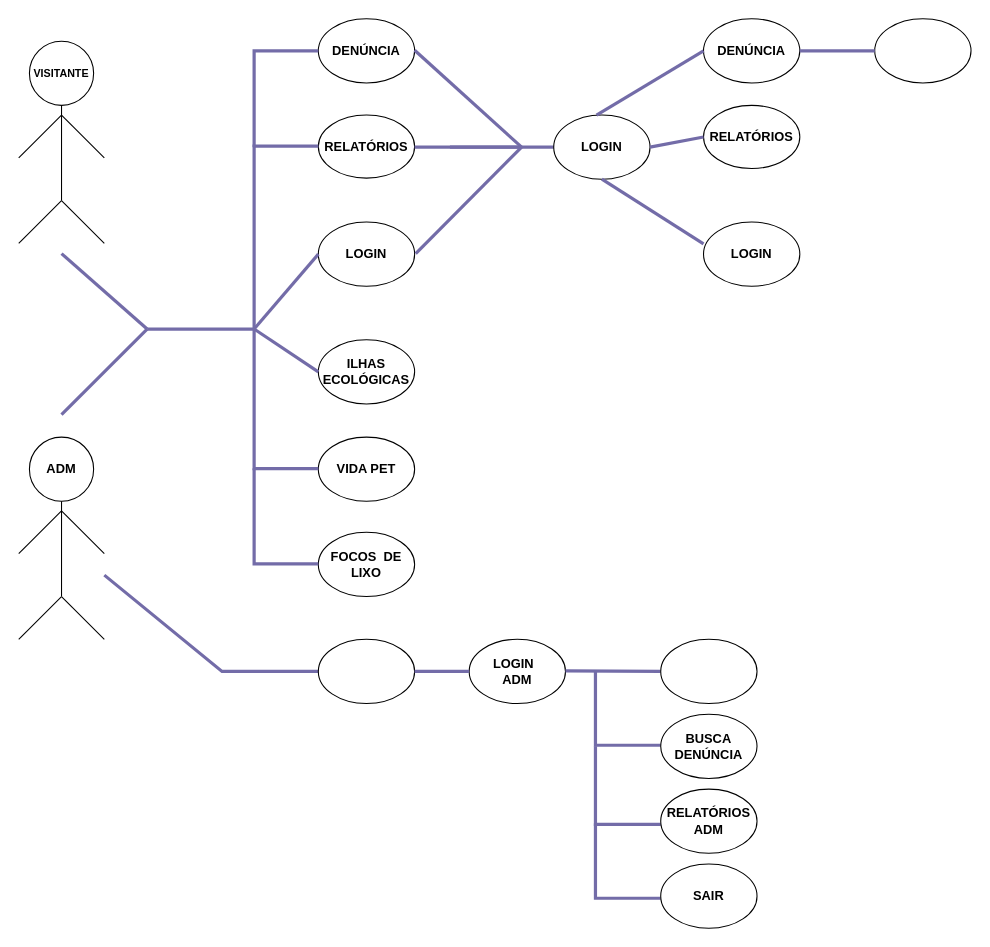
The diagram is 990 pixels wide and 947 high, and some of its shapes have lost their labels. Each missing label, with the centre of its shape:
"AREA ADMINISTRATIVA" goes at (x=366, y=671).
"BUSCA USU" goes at (x=708, y=671).
"MAPA" goes at (x=922, y=50).
